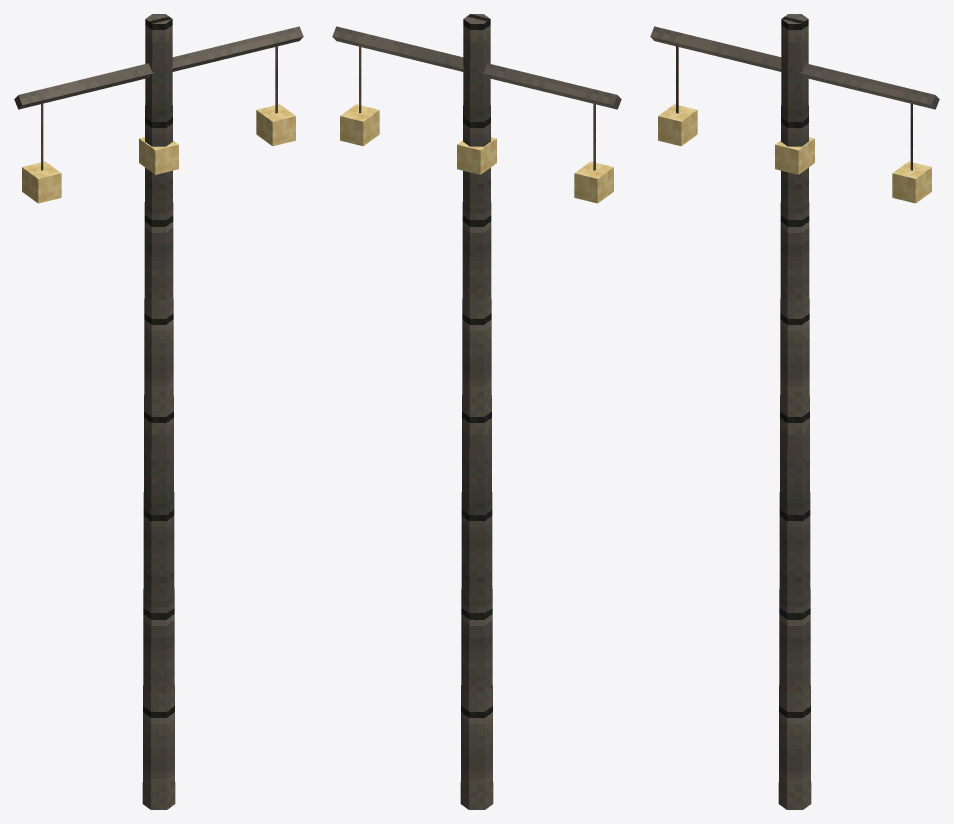
Rendered from poste_bombillas.obj.
The picture shows the model from 3 angles, left to right: view 1: azimuth 30°, elevation 25°; view 2: azimuth 150°, elevation 25°; view 3: azimuth 330°, elevation 25°; orthographic projection.
Parts seen in each view (by area): view 1: poste_bombillas; view 2: poste_bombillas; view 3: poste_bombillas.
Boxes of the visible parts, left/top/right/bottom form: poste_bombillas: left=14, top=14, right=303, bottom=809; poste_bombillas: left=332, top=14, right=621, bottom=809; poste_bombillas: left=650, top=14, right=939, bottom=809.
Size of the model in its own units: 1.2 by 3.2 by 0.12.
Materials: 3 (3 with a texture image).
